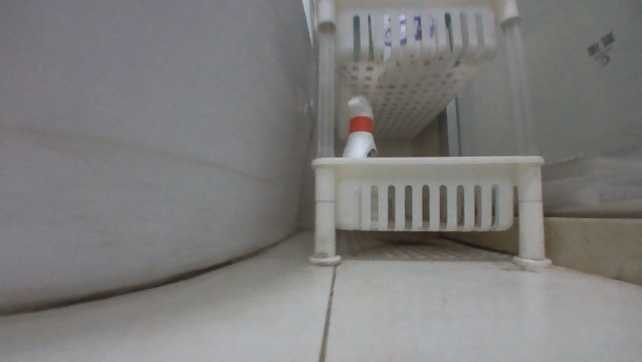toilet: (0, 2, 316, 308)
